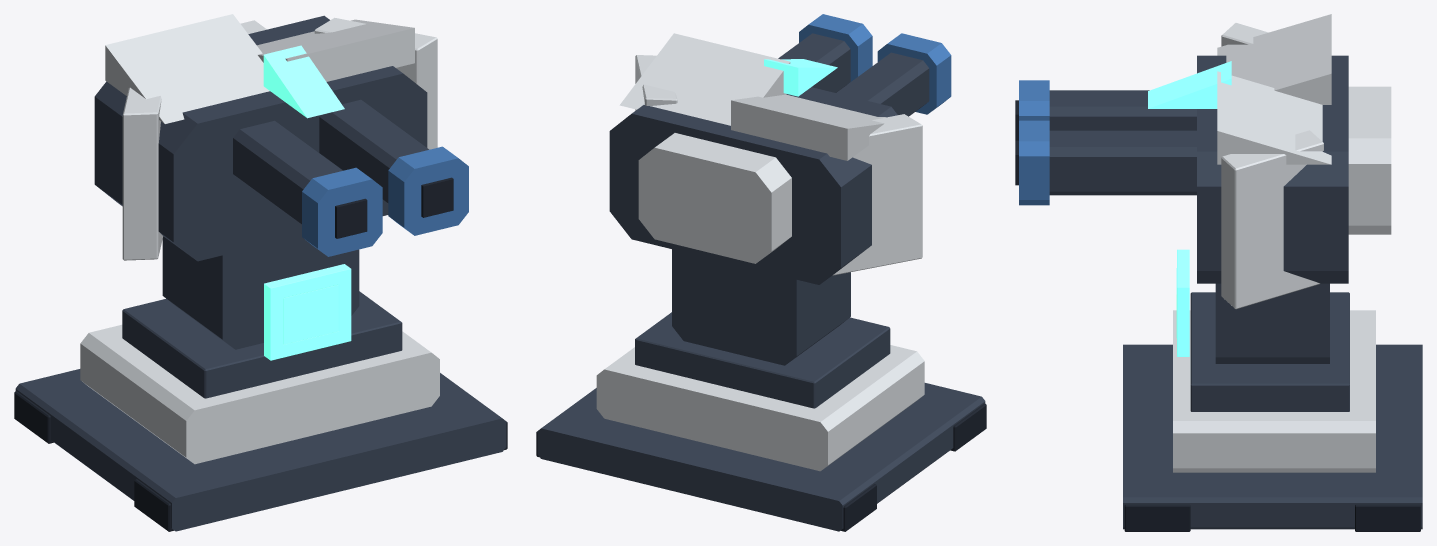
File: intact.glb
3 renders of one model, left to right at view 1: azimuth 30°, elevation 25°; view 2: azimuth 150°, elevation 25°; view 3: azimuth 270°, elevation 25°, orthographic. The views are drawn at different scales.
Visible parts, largest first — view 1: ROLE_primary, ROLE_secondary, ROLE_interaction, ROLE_accent, ROLE_rubber; view 2: ROLE_primary, ROLE_secondary, ROLE_accent, ROLE_rubber, ROLE_interaction; view 3: ROLE_primary, ROLE_secondary, ROLE_rubber, ROLE_accent, ROLE_interaction.
Boxes of the visible parts, bbox=[...] form: ROLE_primary: bbox=[15, 15, 506, 531]; ROLE_secondary: bbox=[80, 14, 439, 464]; ROLE_interaction: bbox=[263, 45, 351, 360]; ROLE_accent: bbox=[302, 146, 468, 256]; ROLE_rubber: bbox=[14, 177, 507, 531]; ROLE_primary: bbox=[537, 33, 985, 531]; ROLE_secondary: bbox=[596, 33, 924, 471]; ROLE_accent: bbox=[799, 14, 951, 114]; ROLE_rubber: bbox=[536, 403, 986, 531]; ROLE_interaction: bbox=[764, 59, 837, 96]; ROLE_primary: bbox=[1049, 55, 1422, 529]; ROLE_secondary: bbox=[1173, 14, 1391, 472]; ROLE_rubber: bbox=[1015, 100, 1420, 531]; ROLE_accent: bbox=[1019, 80, 1049, 205]; ROLE_interaction: bbox=[1148, 61, 1231, 356].
Size of the model in its own units: 4.8 by 5.4 by 5.2.
